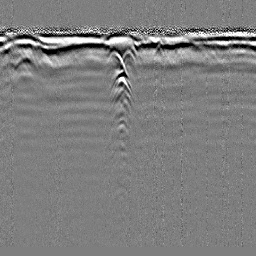cavity: (122, 47, 135, 61)
